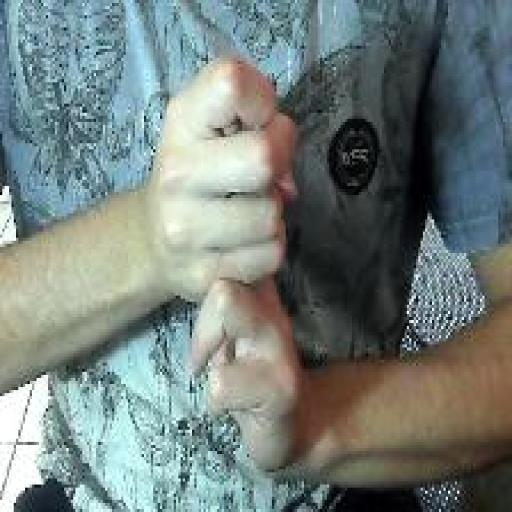Ne -rat-: (144, 52, 306, 484)
